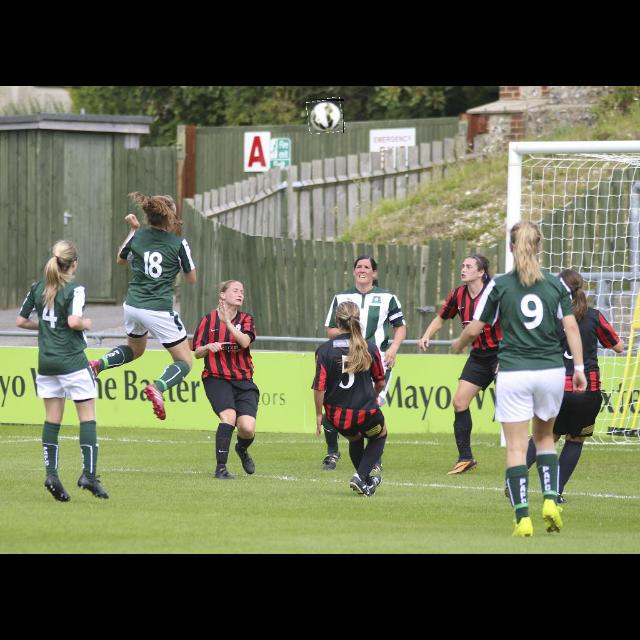Football: (308, 99, 344, 133)
